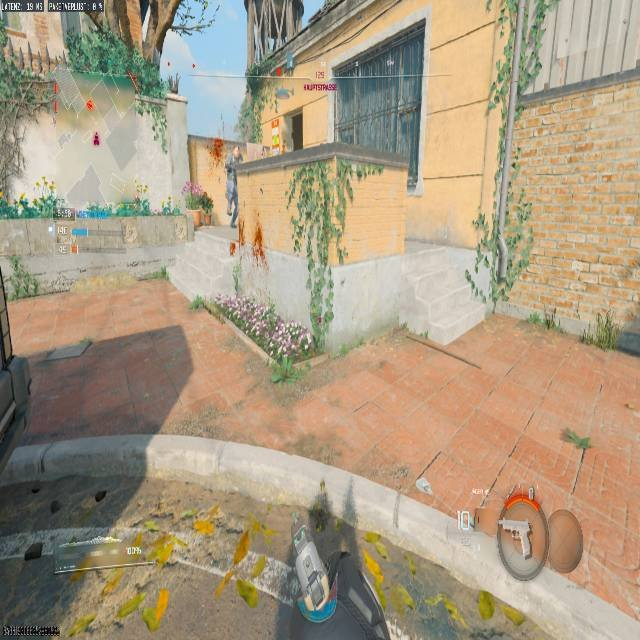player: (221, 145, 243, 207)
